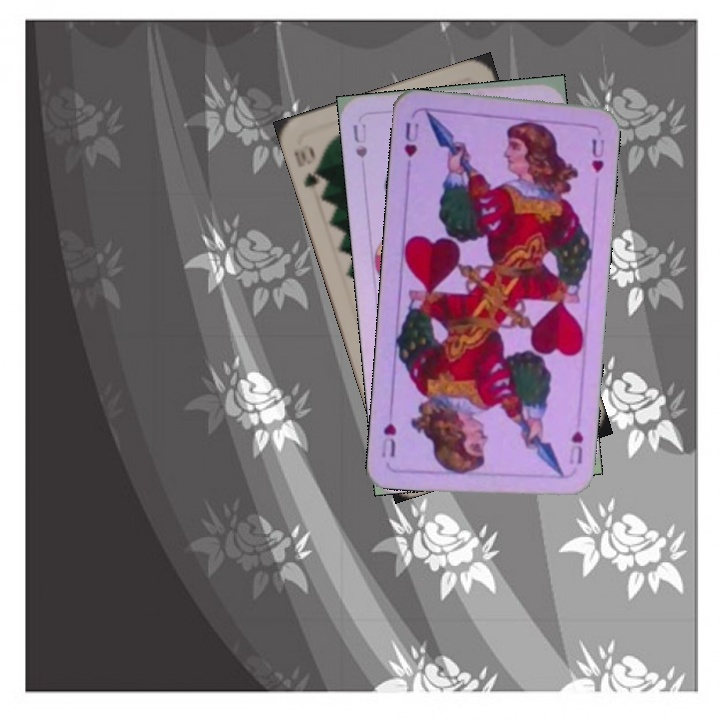G10: (289, 140, 330, 194)
HU: (400, 118, 422, 160), (565, 427, 586, 467)
SU: (348, 119, 370, 161)
